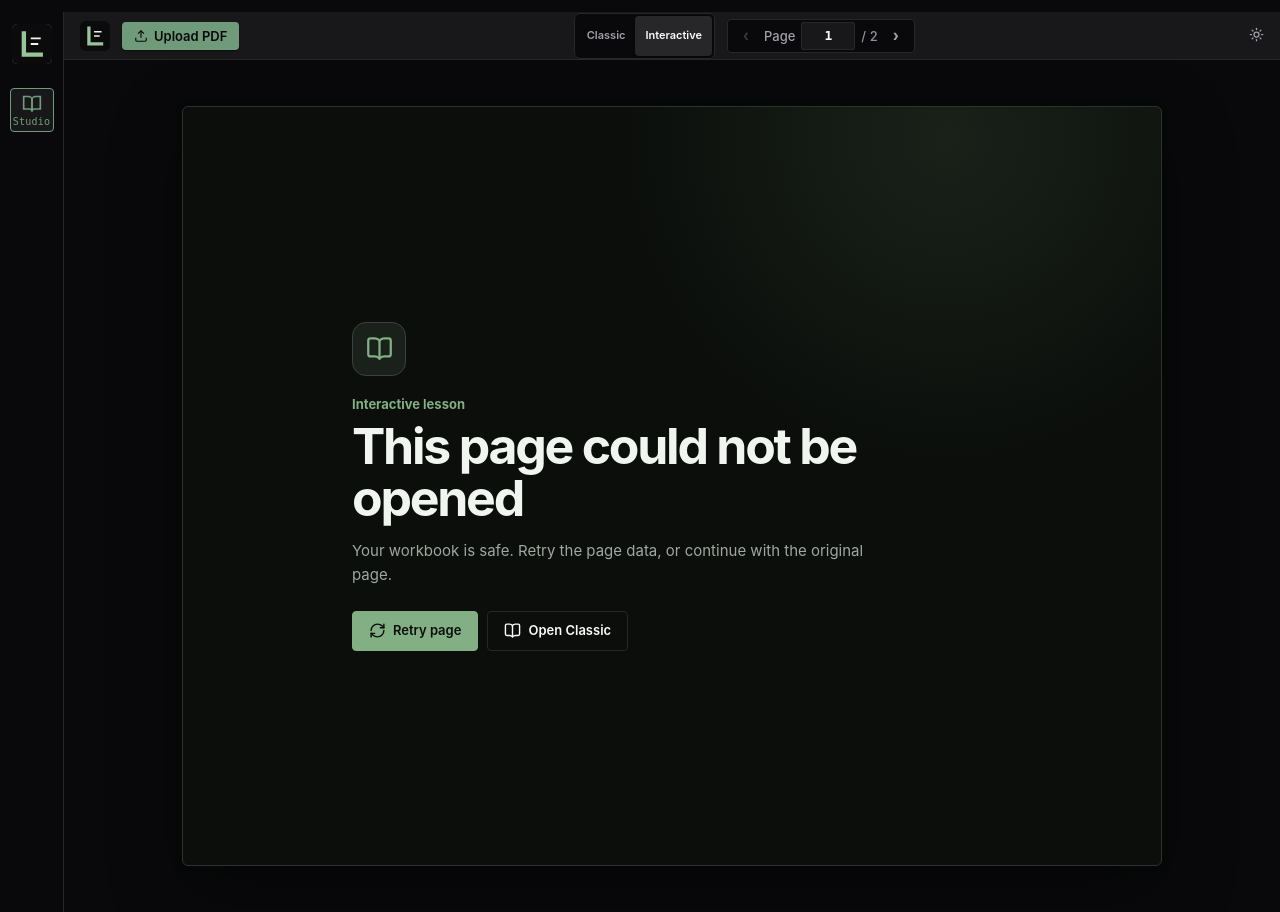
Test: request recovery and correction isolation › shows retryable page and correction request errors
Click the button "Retry page".
click(415, 630)  # box [352,610,478,650]
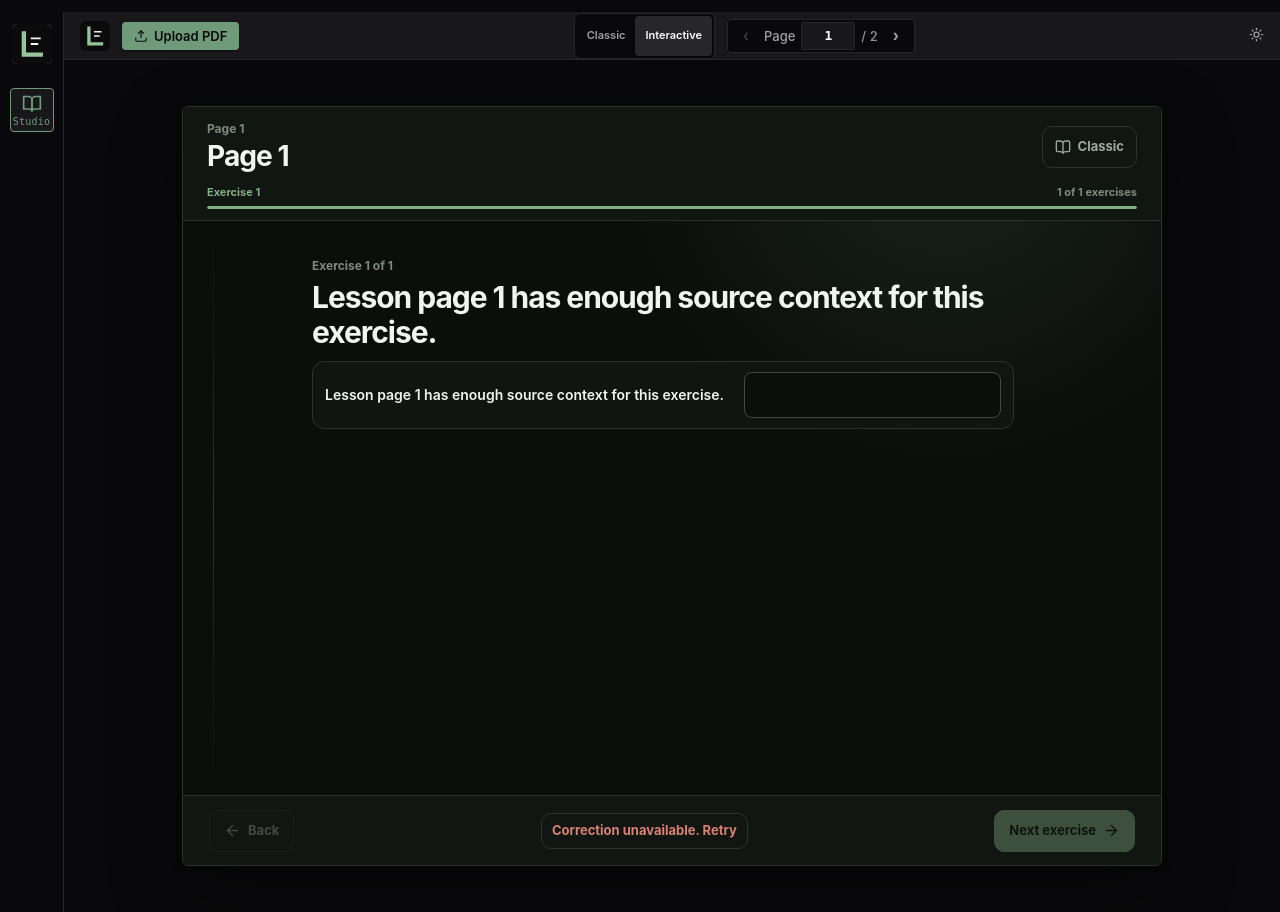
Expected: the field named "answer for" is shown, [744,372,1001,418]
Expected: the button "Correction unavailable. Retry" is shown, [541,812,748,848]
